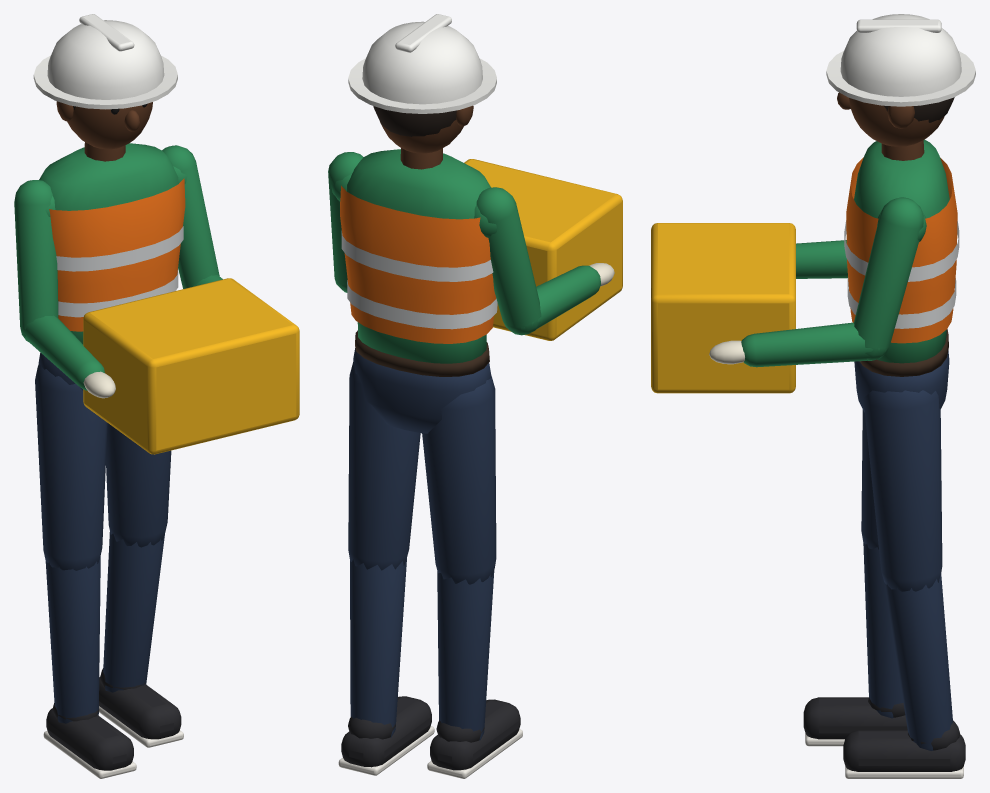
The model's file is helper_carry.fbx.
The picture shows the model from 3 angles, left to right: view 1: azimuth 30°, elevation 25°; view 2: azimuth 150°, elevation 25°; view 3: azimuth 270°, elevation 25°; orthographic projection. The views are drawn at different scales.
Visible parts, largest first — view 1: helper_carry; view 2: helper_carry; view 3: helper_carry.
Part boxes in pixels (<box>): helper_carry: <box>14,14,299,778</box>; helper_carry: <box>328,14,622,778</box>; helper_carry: <box>651,14,975,778</box>.
Bounding box in the file's own units: 0.5311 × 1.78 × 0.717.
